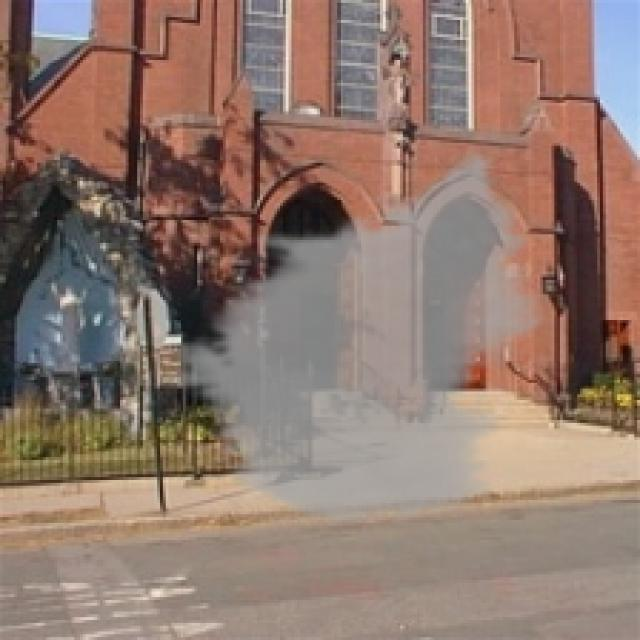Smoke: (165, 148, 558, 532)
